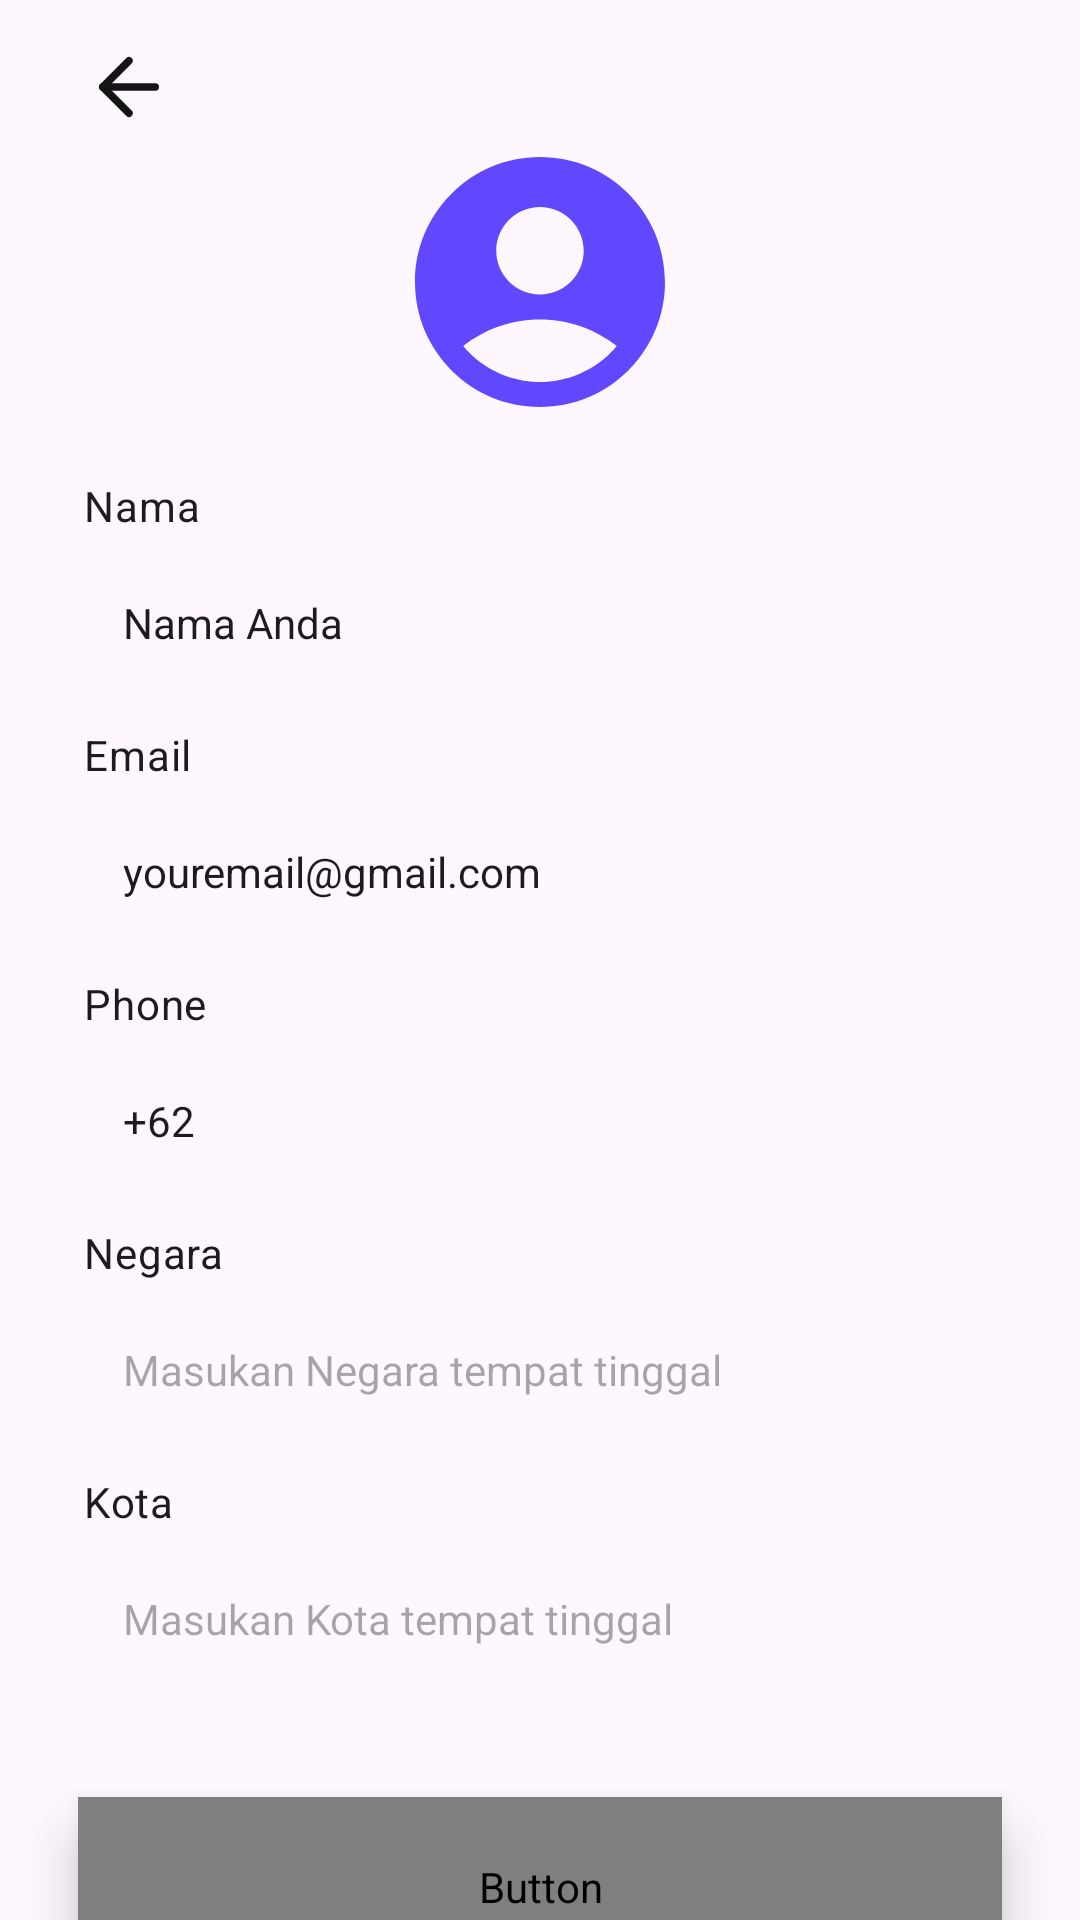

Screen size 1080px×1920px. Icon name, then its center in pixels as (x,y):
Akun: (540,282)
Button Back: (128,87)
